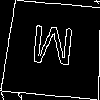M: (28, 25, 76, 76)
